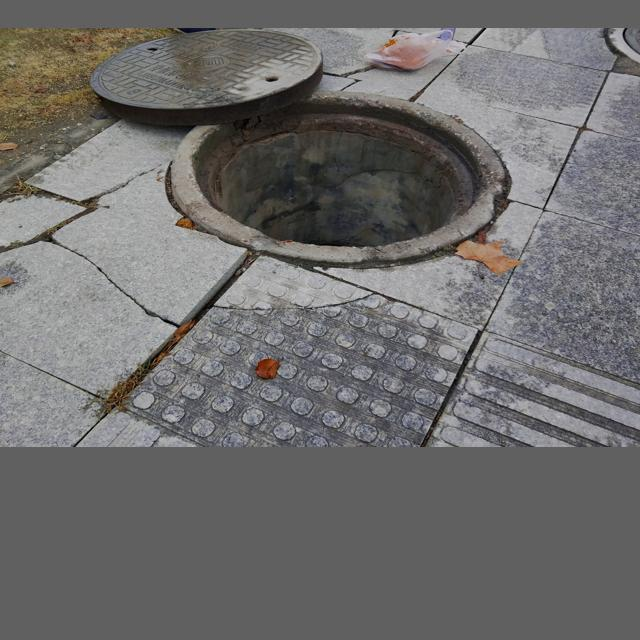uncovered: (92, 28, 508, 263)
